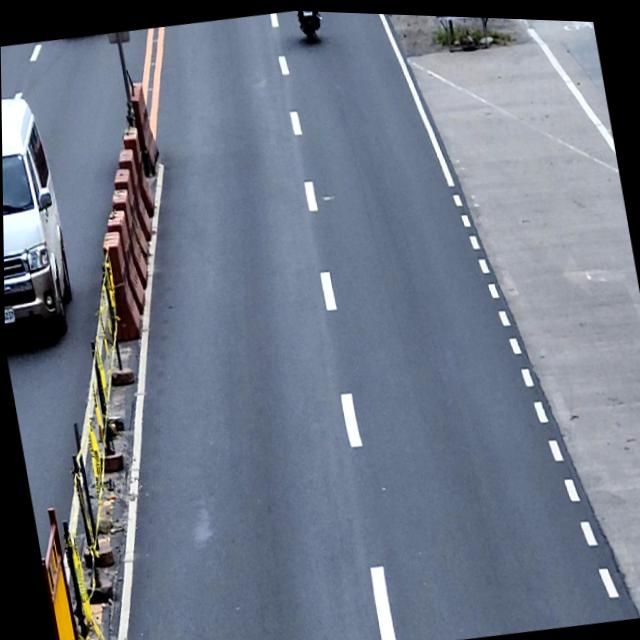Car: (1, 91, 80, 349)
License-Plate: (4, 305, 16, 325), (303, 9, 313, 14)
Motorcycle: (297, 9, 325, 44)
